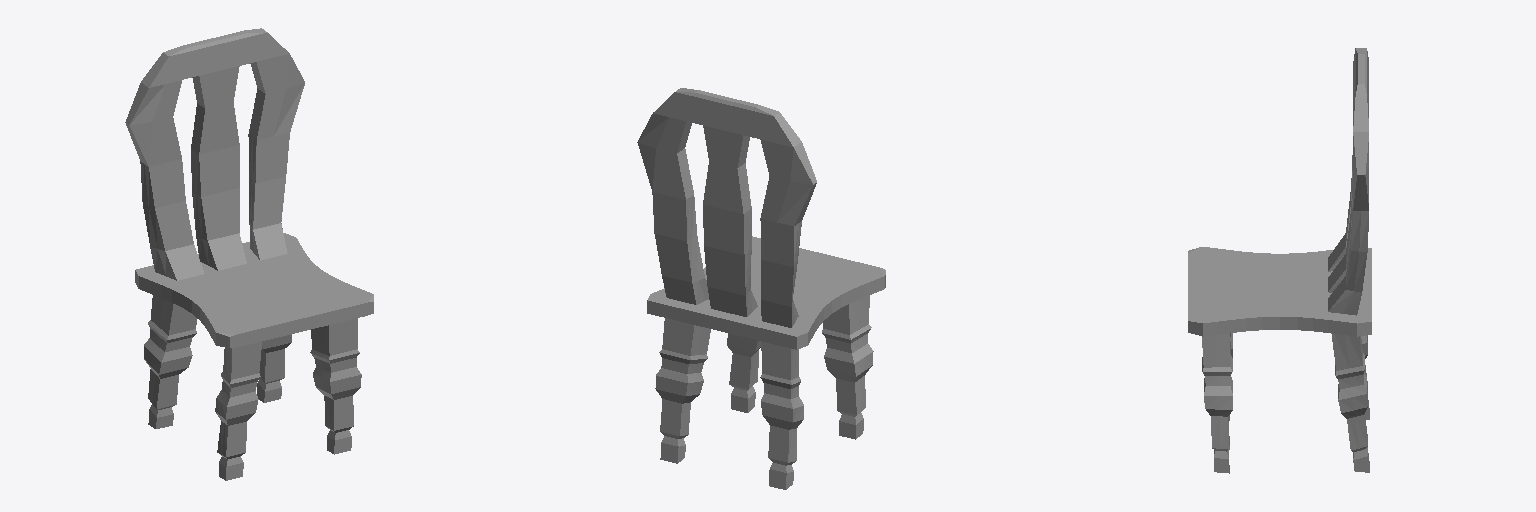
File: chair.obj
3 renders of one model, left to right at view 1: azimuth 30°, elevation 25°; view 2: azimuth 150°, elevation 25°; view 3: azimuth 270°, elevation 25°, orthographic.
Visible parts, largest first — view 1: Cube.005; view 2: Cube.005; view 3: Cube.005.
Boxes of the visible parts, <box> form: Cube.005: <box>125,28,373,480</box>; Cube.005: <box>637,88,885,489</box>; Cube.005: <box>1188,48,1371,473</box>.
Bounding box in the file's own units: 1.53 × 3.11 × 1.38.